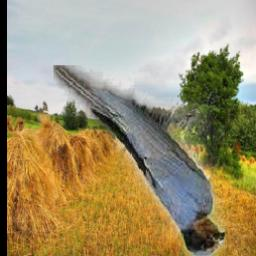Swallow: (55, 65, 226, 256)
